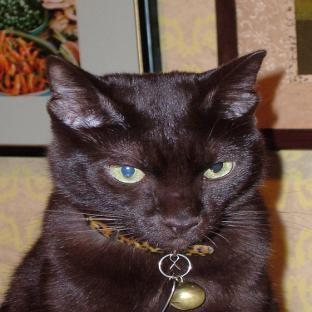Animal: (1, 51, 280, 311)
